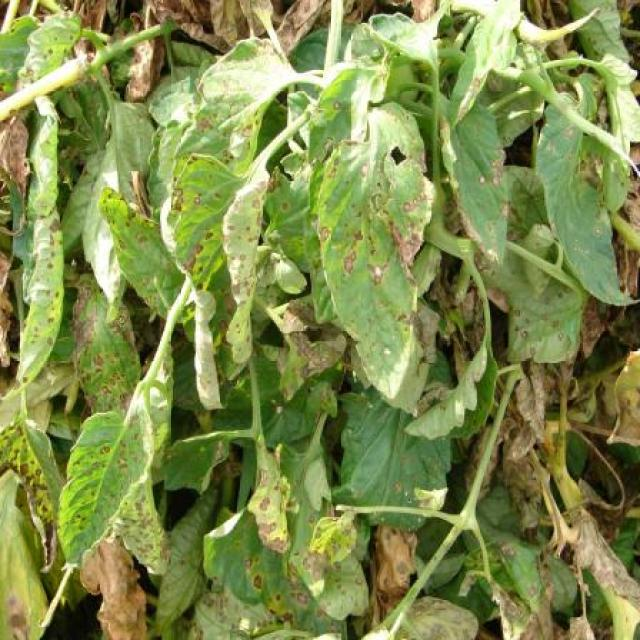Septoria: (314, 97, 440, 402), (174, 149, 273, 415), (533, 70, 640, 310), (202, 465, 346, 640), (0, 91, 66, 403), (170, 24, 296, 175), (336, 386, 453, 538), (54, 404, 153, 576), (434, 90, 523, 276), (98, 184, 195, 343), (400, 334, 500, 444), (0, 413, 66, 578), (68, 269, 142, 414), (161, 423, 232, 497), (308, 502, 359, 577)
